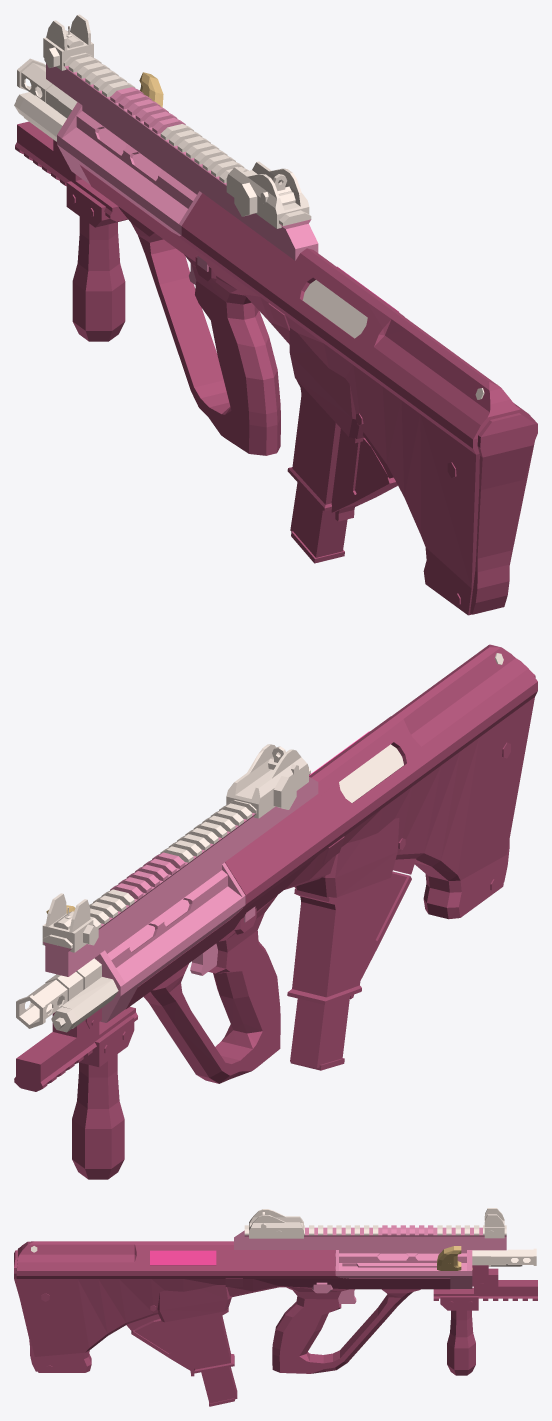
The model's file is Rifle_AUG.obj.
The picture shows the model from 3 angles, top to bottom: view 1: azimuth 30°, elevation 25°; view 2: azimuth 150°, elevation 25°; view 3: azimuth 270°, elevation 25°; orthographic projection. The views are drawn at different scales.
Parts seen in each view (by area): view 1: Mag, Body, Panel, Grip; view 2: Mag, Body, Panel; view 3: Mag, Body, Panel, Accent, Bolt, Grip.
Part boxes in pixels (x1,y1,x2,y2): Mag: (15,121,537,615); Body: (46,63,318,285); Panel: (14,14,498,399); Grip: (447,413,535,614); Mag: (14,644,537,1179); Body: (43,773,318,1022); Panel: (16,649,503,1032); Mag: (16,1241,537,1406); Body: (234,1225,506,1303); Panel: (31,1208,536,1266); Accent: (150,1250,216,1265); Bolt: (437,1246,472,1270); Grip: (14,1250,49,1371).
Size of the model in its own units: 0.3462 by 1.37 by 3.4.
